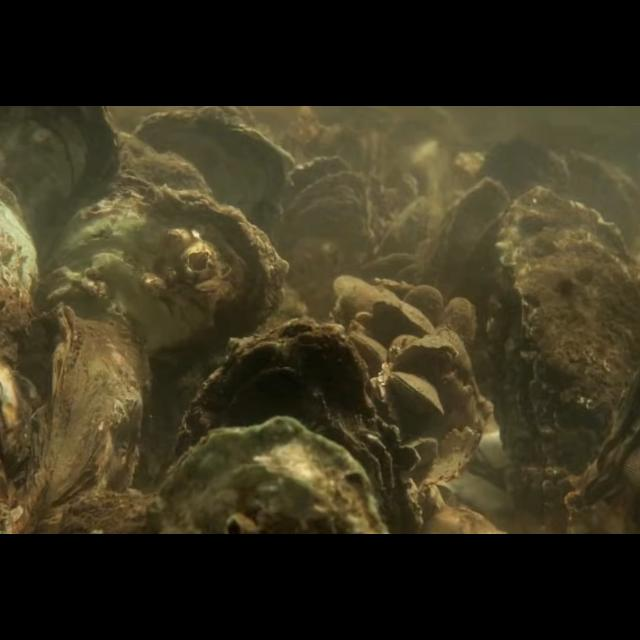Oyster-Closed: (56, 184, 290, 461), (181, 317, 421, 535), (22, 303, 152, 535), (152, 417, 390, 535), (428, 176, 512, 330), (372, 298, 434, 334), (394, 343, 460, 375), (404, 284, 444, 332), (444, 296, 476, 348)
Oyster-Open: (485, 184, 640, 481), (272, 156, 368, 298), (390, 372, 444, 414)
